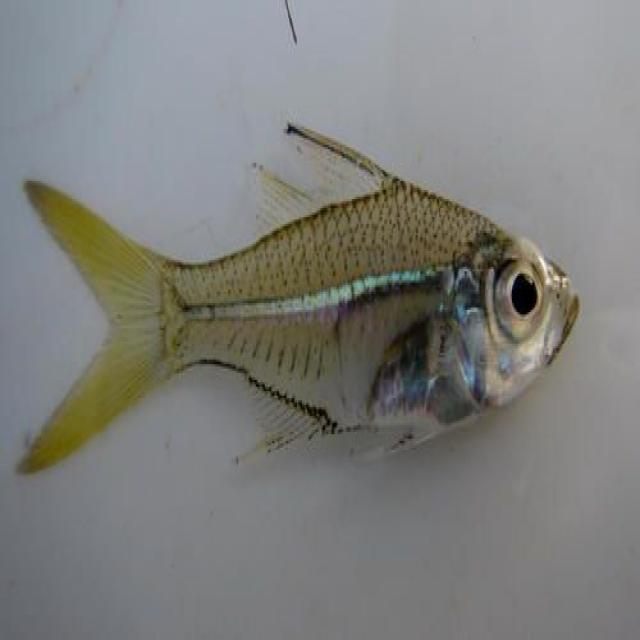Glass-Perchlet: (0, 68, 586, 534)
